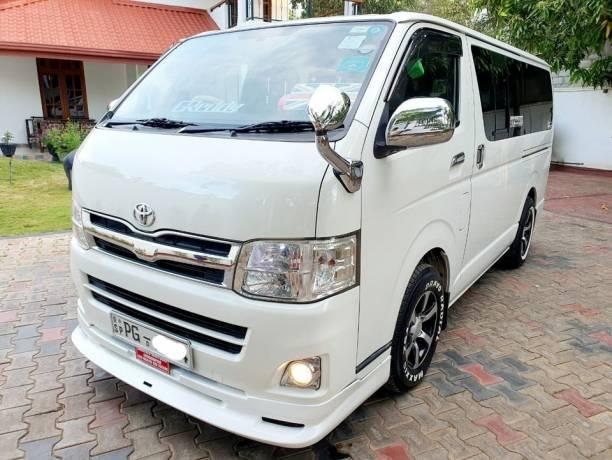car: (62, 10, 555, 459)
